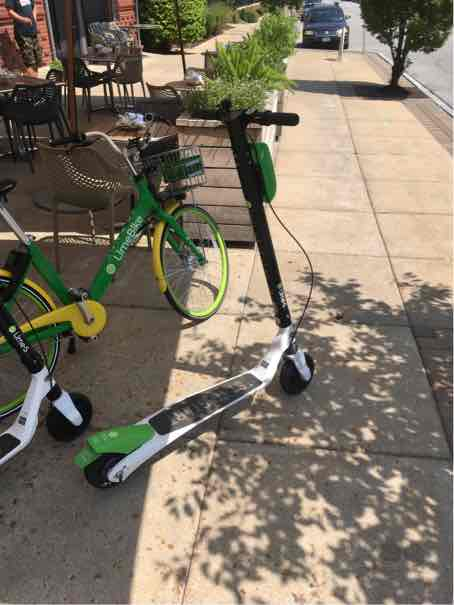scooter: (79, 95, 323, 500)
